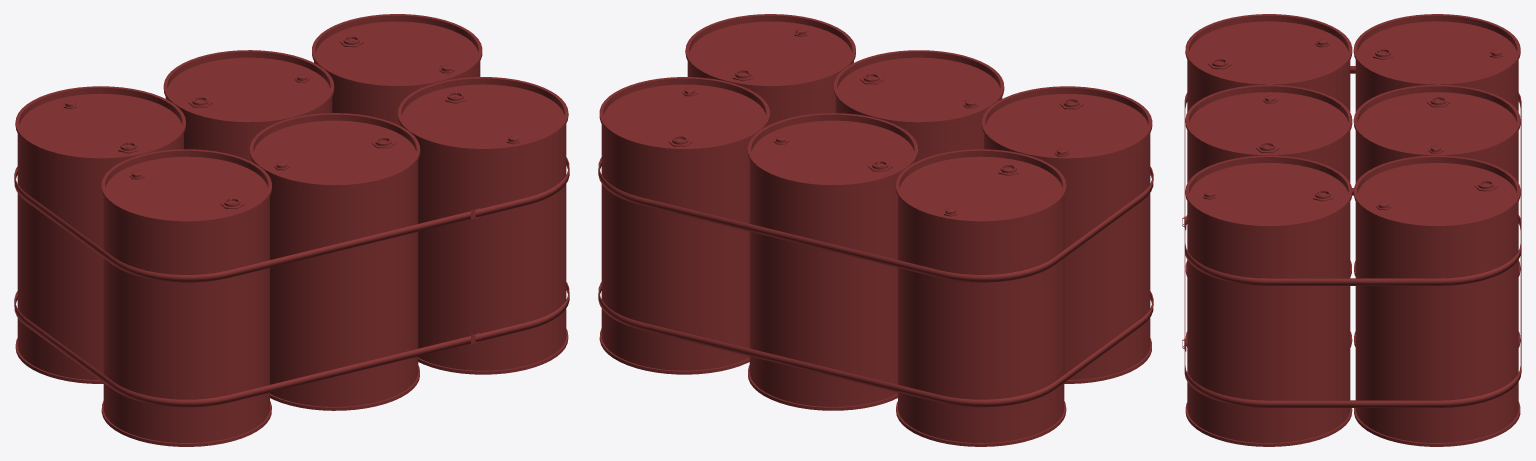
The model's file is SM_BarrelPack01.fbx.
The picture shows the model from 3 angles, left to right: view 1: azimuth 30°, elevation 25°; view 2: azimuth 150°, elevation 25°; view 3: azimuth 270°, elevation 25°; orthographic projection. The views are drawn at different scales.
Visible parts, largest first — view 1: BarrelPack01; view 2: BarrelPack01; view 3: BarrelPack01.
Part boxes in pixels (x1,y1,x2,y2): BarrelPack01: (14, 14, 569, 446); BarrelPack01: (598, 14, 1153, 446); BarrelPack01: (1182, 14, 1521, 446).
Size of the model in its own units: 182 by 88.24 by 123.
